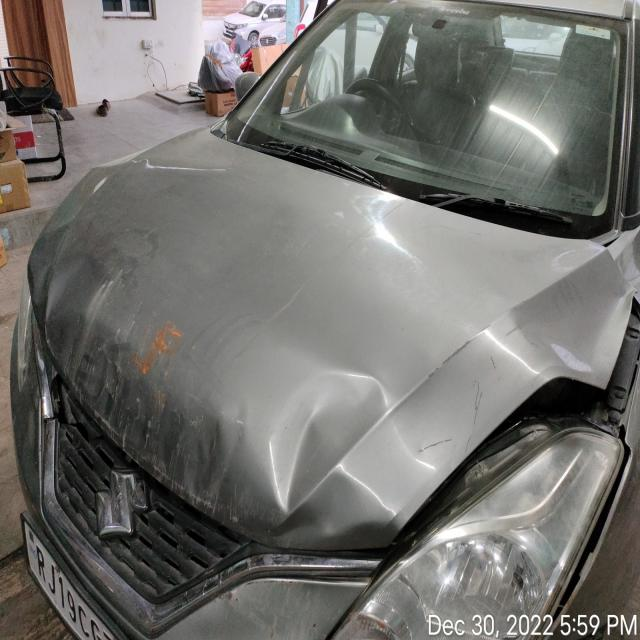damage: (381, 367, 634, 555), (262, 368, 389, 515), (493, 262, 638, 385), (27, 238, 113, 360), (98, 140, 229, 166), (42, 397, 88, 436)
